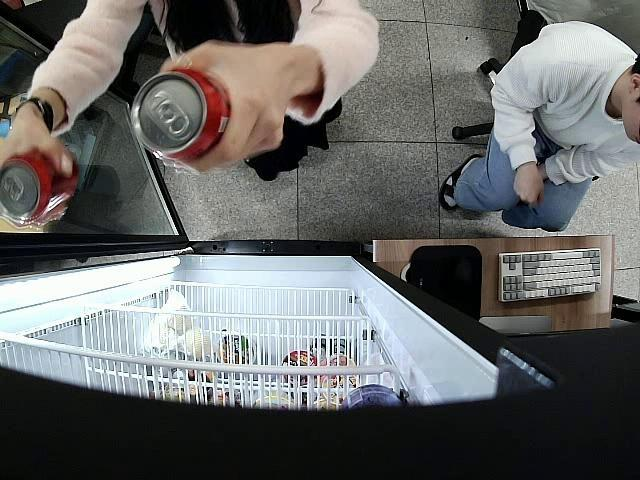11_cocaColaZero: (130, 66, 230, 166), (0, 152, 77, 228)
